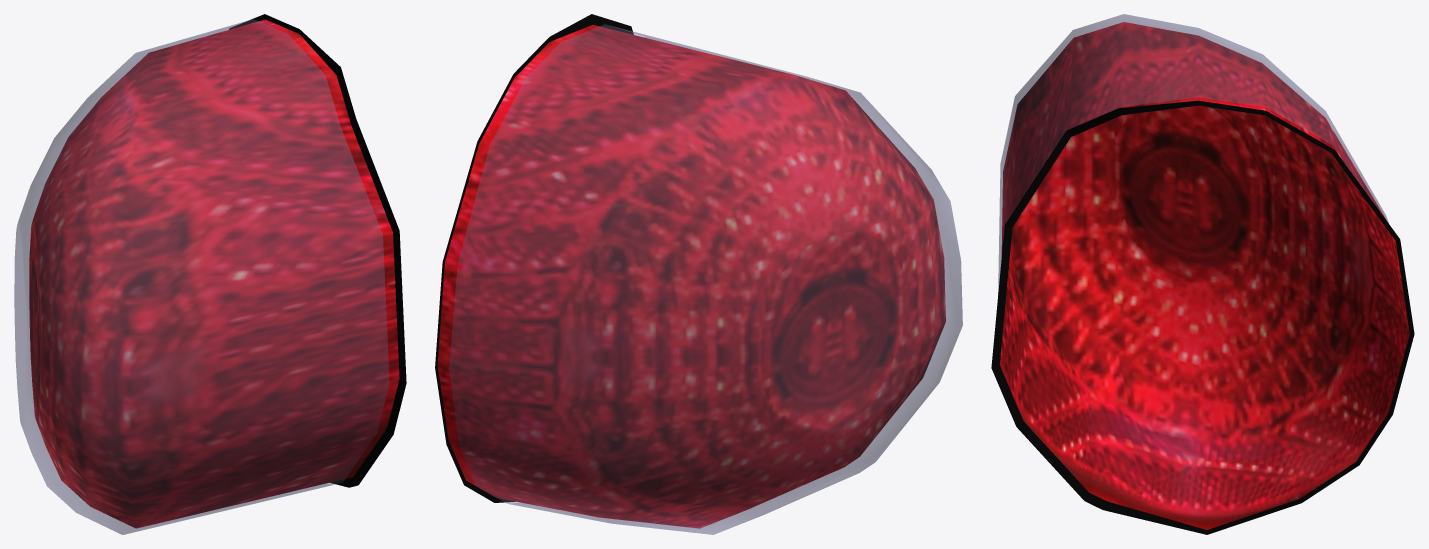
3 views of the same model, side by side, from view 1: azimuth 30°, elevation 25°; view 2: azimuth 150°, elevation 25°; view 3: azimuth 270°, elevation 25° (orthographic). The views are drawn at different scales.
Visible parts, largest first — view 1: U236_17_541C_L_U236_17_541C_L_1_DTaSI, U236_17_541C_L_2_N_U236_17_541C_L, U236_17_541C_L_U236_17_541C_L_3_D; view 2: U236_17_541C_L_U236_17_541C_L_1_DTaSI, U236_17_541C_L_2_N_U236_17_541C_L, U236_17_541C_L_U236_17_541C_L_3_D; view 3: U236_17_541C_L_2_N_U236_17_541C_L, U236_17_541C_L_U236_17_541C_L_1_DTaSI, U236_17_541C_L_U236_17_541C_L_3_D.
Part boxes in pixels (x1,y1,x2,y2): U236_17_541C_L_U236_17_541C_L_1_DTaSI: (14, 19, 389, 534); U236_17_541C_L_2_N_U236_17_541C_L: (29, 19, 399, 528); U236_17_541C_L_U236_17_541C_L_3_D: (229, 14, 406, 487); U236_17_541C_L_U236_17_541C_L_1_DTaSI: (449, 24, 962, 534); U236_17_541C_L_2_N_U236_17_541C_L: (437, 24, 945, 528); U236_17_541C_L_U236_17_541C_L_3_D: (435, 14, 633, 502); U236_17_541C_L_2_N_U236_17_541C_L: (999, 22, 1409, 529); U236_17_541C_L_U236_17_541C_L_1_DTaSI: (998, 14, 1388, 294); U236_17_541C_L_U236_17_541C_L_3_D: (991, 100, 1414, 534).
Size of the model in its own units: 10.79 by 14.25 by 12.58.
